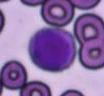L: (28, 27, 76, 71)
